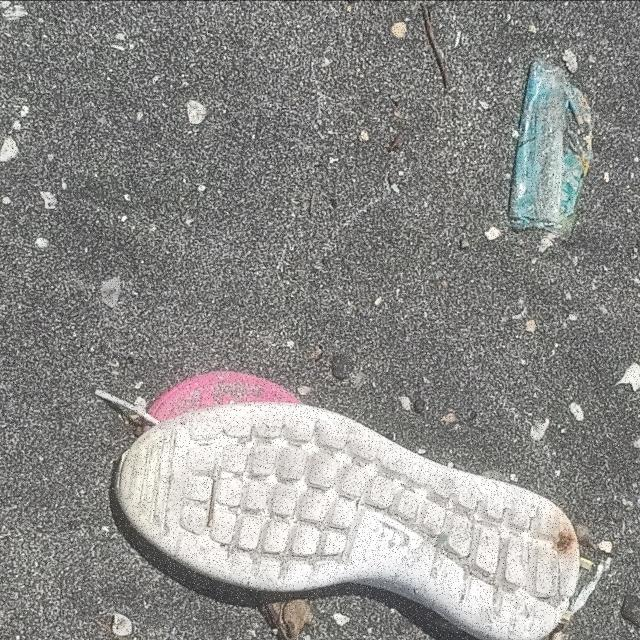plastic_waste: (507, 60, 595, 242)
rubber_waste: (112, 400, 584, 640)
